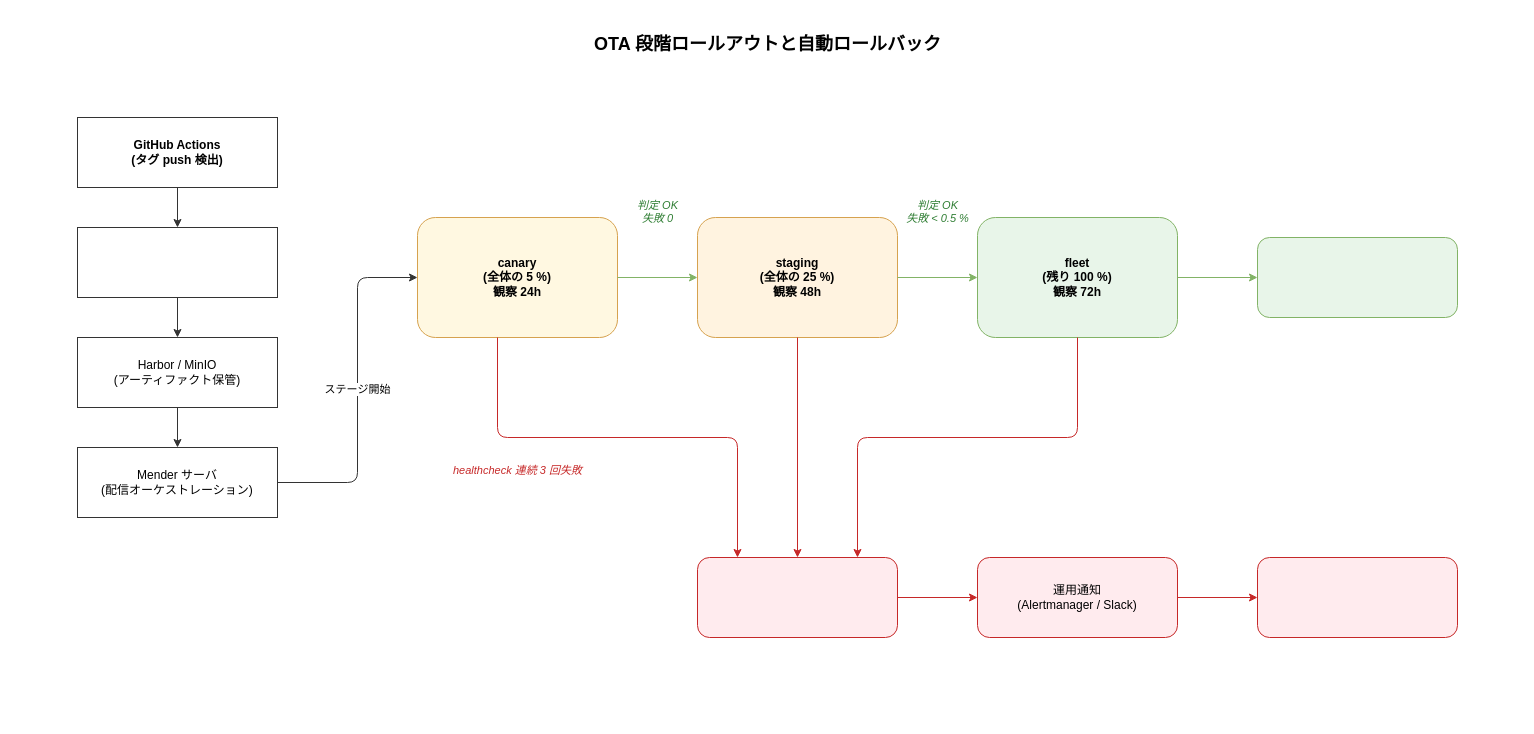
Image size: 1534x734. Some labels were removed from this diagram. The centre of each missing label's shape, as x and y in pixels:
bundle ビルド + 署名 (rauc / Mender + Cosign): the point at 177,262
RCA + 修正版 bundle (再ロールアウト): the point at 1357,597
リリース完了 次バージョンの standby: the point at 1357,277
自動ロールバック (A/B partition 切戻し): the point at 797,597
